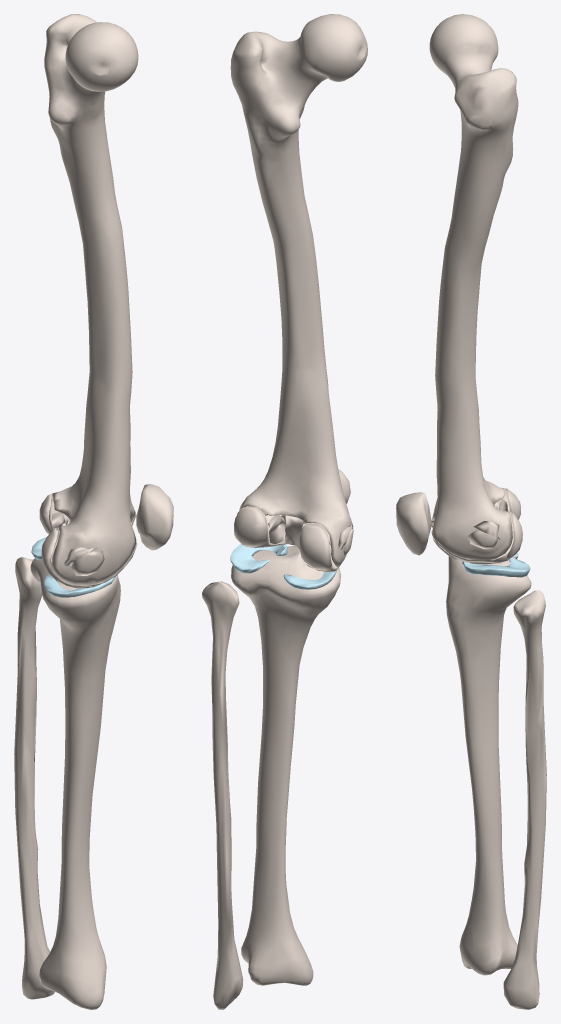
File: vh_f_knee_l-40.glb
3 renders of one model, left to right at view 1: azimuth 90°, elevation 25°; view 2: azimuth 150°, elevation 25°; view 3: azimuth 270°, elevation 25°, orthographic. The views are drawn at different scales.
Parts seen in each view (by area): view 1: VH_F_femur_L, VH_F_tibia_L, VH_F_fibula_L, VH_F_patella_L, VH_F_meniscus_L, VH_F_medial_perichondular_surface_L, VH_F_articular_cartilage_of_knee_L, VH_F_medial_condyle_of_left_femur_inf; view 2: VH_F_femur_L, VH_F_tibia_L, VH_F_fibula_L, VH_F_meniscus_L, VH_F_medial_condyle_of_left_femur_inf, VH_F_lateral_condyle_of_femur_inf_L, VH_F_articular_cartilage_of_knee_L, VH_F_posterior_cruciate_enthesis_L, VH_F_anterior_cruciate_enthesis_L; view 3: VH_F_femur_L, VH_F_tibia_L, VH_F_fibula_L, VH_F_patella_L, VH_F_meniscus_L, VH_F_articular_cartilage_of_knee_L, VH_F_lateral_perichondular_surface_L, VH_F_lateral_condyle_of_femur_inf_L.
Part boxes in pixels (x1=…): VH_F_femur_L: x1=44, y1=14, x2=138, y2=584; VH_F_tibia_L: x1=30, y1=558, x2=120, y2=1009; VH_F_fibula_L: x1=14, y1=557, x2=54, y2=999; VH_F_patella_L: x1=136, y1=484, x2=173, y2=550; VH_F_meniscus_L: x1=31, y1=537, x2=115, y2=597; VH_F_medial_perichondular_surface_L: x1=71, y1=550, x2=104, y2=575; VH_F_articular_cartilage_of_knee_L: x1=49, y1=494, x2=137, y2=586; VH_F_medial_condyle_of_left_femur_inf: x1=41, y1=528, x2=58, y2=581; VH_F_femur_L: x1=230, y1=14, x2=367, y2=567; VH_F_tibia_L: x1=231, y1=546, x2=340, y2=985; VH_F_fibula_L: x1=202, y1=581, x2=243, y2=1009; VH_F_meniscus_L: x1=230, y1=543, x2=336, y2=589; VH_F_medial_condyle_of_left_femur_inf: x1=299, y1=524, x2=331, y2=570; VH_F_lateral_condyle_of_femur_inf_L: x1=234, y1=506, x2=267, y2=547; VH_F_articular_cartilage_of_knee_L: x1=237, y1=506, x2=340, y2=572; VH_F_posterior_cruciate_enthesis_L: x1=285, y1=515, x2=303, y2=547; VH_F_anterior_cruciate_enthesis_L: x1=269, y1=515, x2=285, y2=543; VH_F_femur_L: x1=429, y1=14, x2=518, y2=559; VH_F_tibia_L: x1=446, y1=556, x2=531, y2=975; VH_F_fibula_L: x1=503, y1=590, x2=546, y2=1009; VH_F_patella_L: x1=396, y1=492, x2=431, y2=555; VH_F_meniscus_L: x1=462, y1=552, x2=530, y2=577; VH_F_articular_cartilage_of_knee_L: x1=431, y1=488, x2=513, y2=563; VH_F_lateral_perichondular_surface_L: x1=467, y1=528, x2=497, y2=549; VH_F_lateral_condyle_of_femur_inf_L: x1=506, y1=512, x2=522, y2=559.
Bounding box in the file's own units: 0.1016 × 0.772 × 0.1104.
